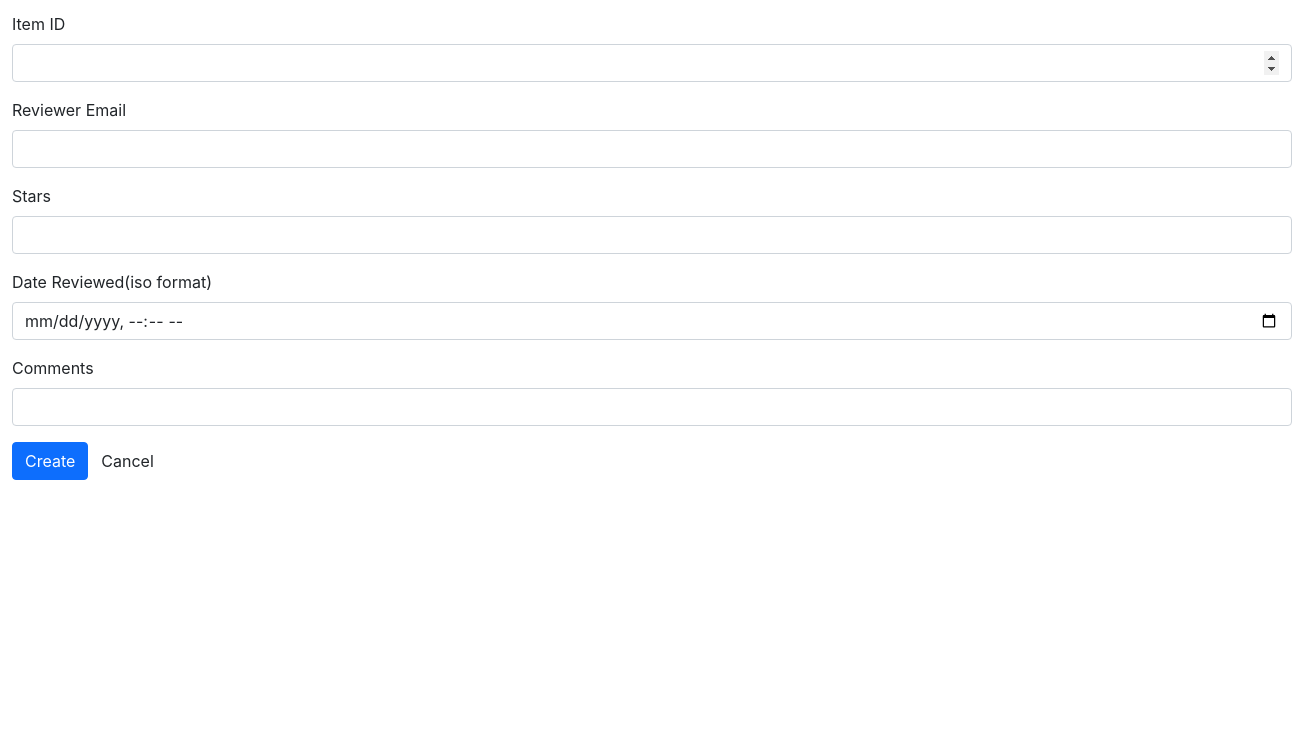
Scenario: MenuItemReviewForm tests › Correct Error messsages on missing input
Click the button with test id "MenuItemReviewForm-submit": (50, 461) [12,442,88,480]
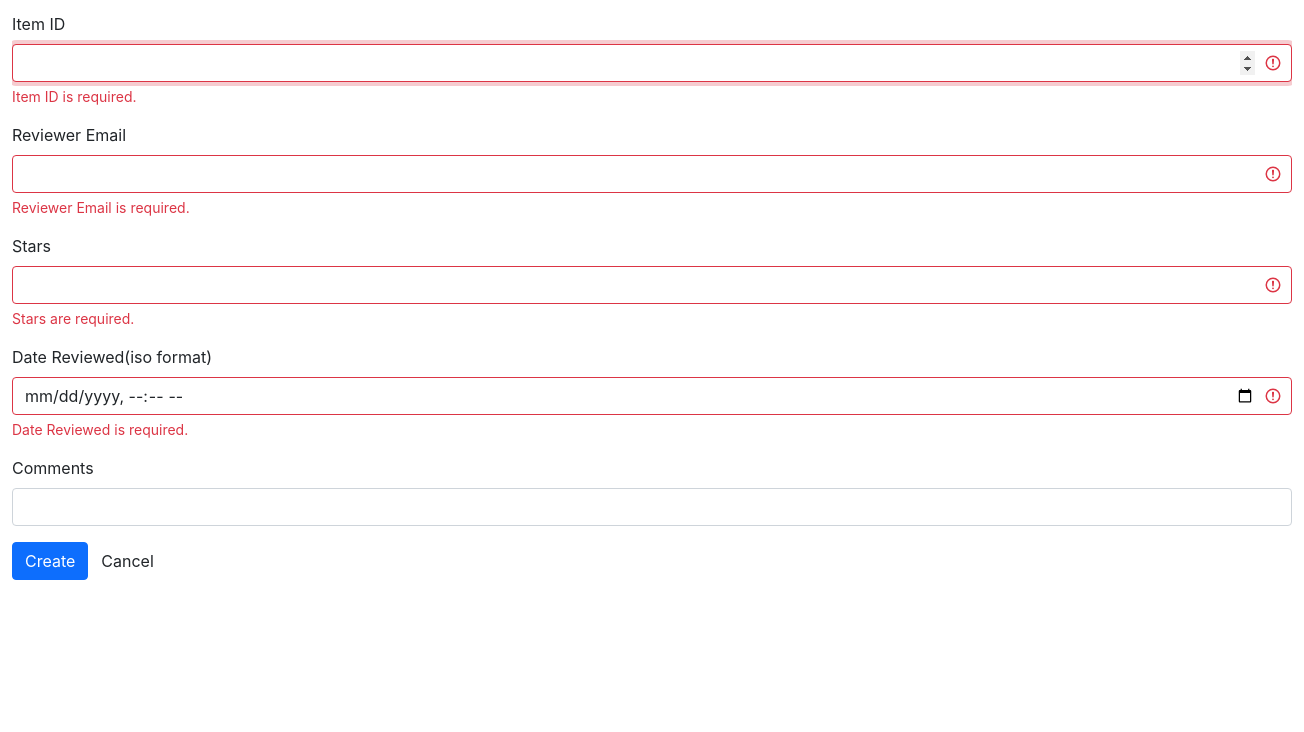
Expected: the text "Item ID is required." is shown, [12,88,136,105]
Expected: the text "Reviewer Email is required." is shown, [12,199,190,216]
Expected: the text "Stars are required." is shown, [12,310,134,327]
